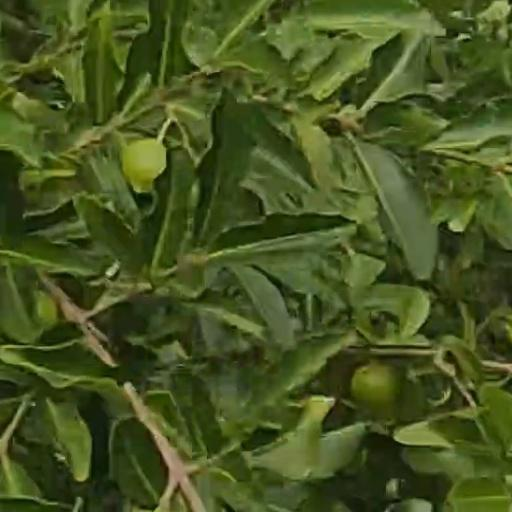acerola_verde: (353, 365, 402, 411), (121, 137, 162, 189)
